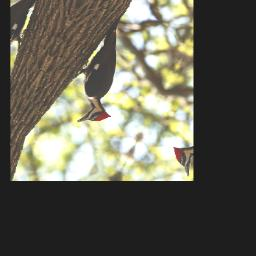Woodpecker: (49, 1, 160, 135)
